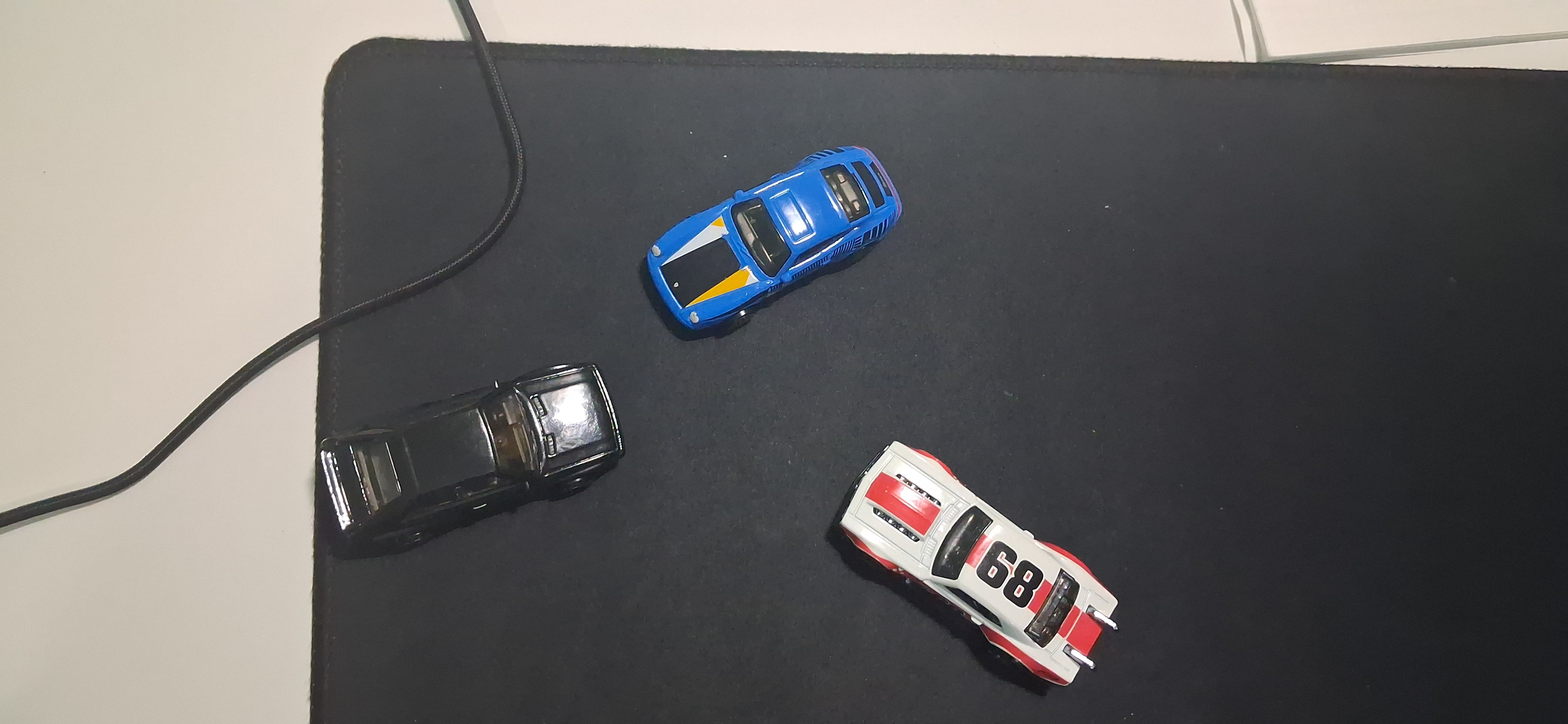Audi_Quattro: (294, 371, 653, 591)
Camaro: (790, 411, 1163, 712)
Porsche_Carrera: (622, 101, 936, 369)
